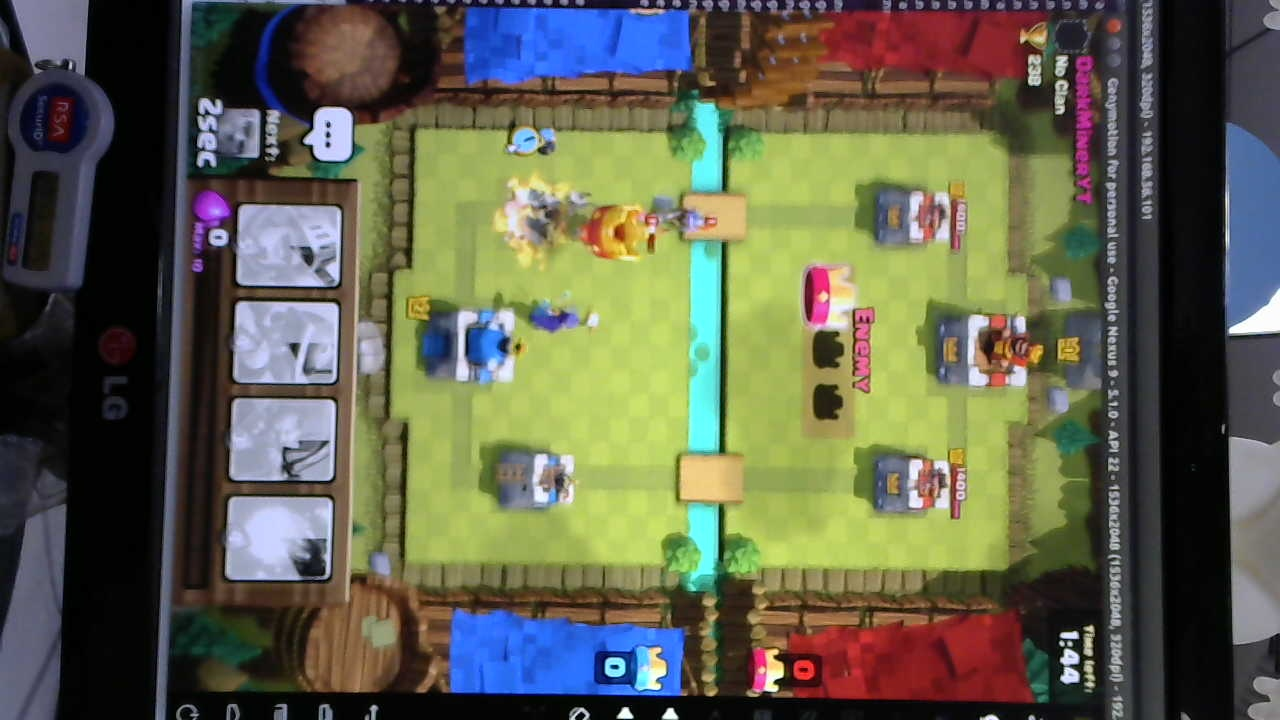arena: (493, 445, 579, 512)
bomb: (533, 120, 560, 160)
earena: (871, 180, 956, 250), (868, 454, 949, 514)
eking: (929, 308, 1042, 393)
king: (423, 301, 523, 388)
musketeer: (657, 202, 707, 233)
witch: (526, 298, 603, 335)
